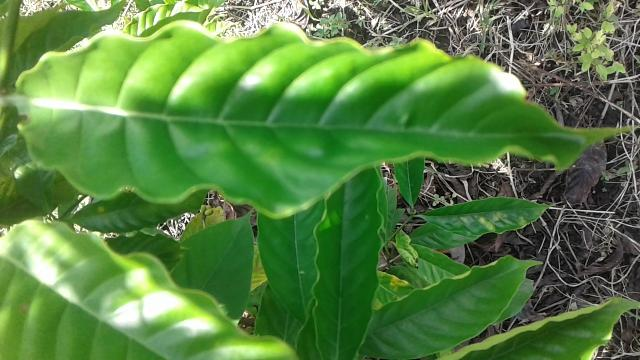healthy: (15, 15, 640, 225)
